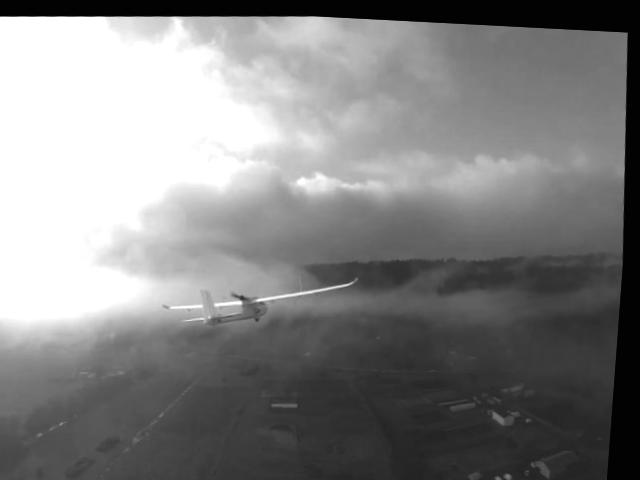hedef: (149, 243, 378, 361)
